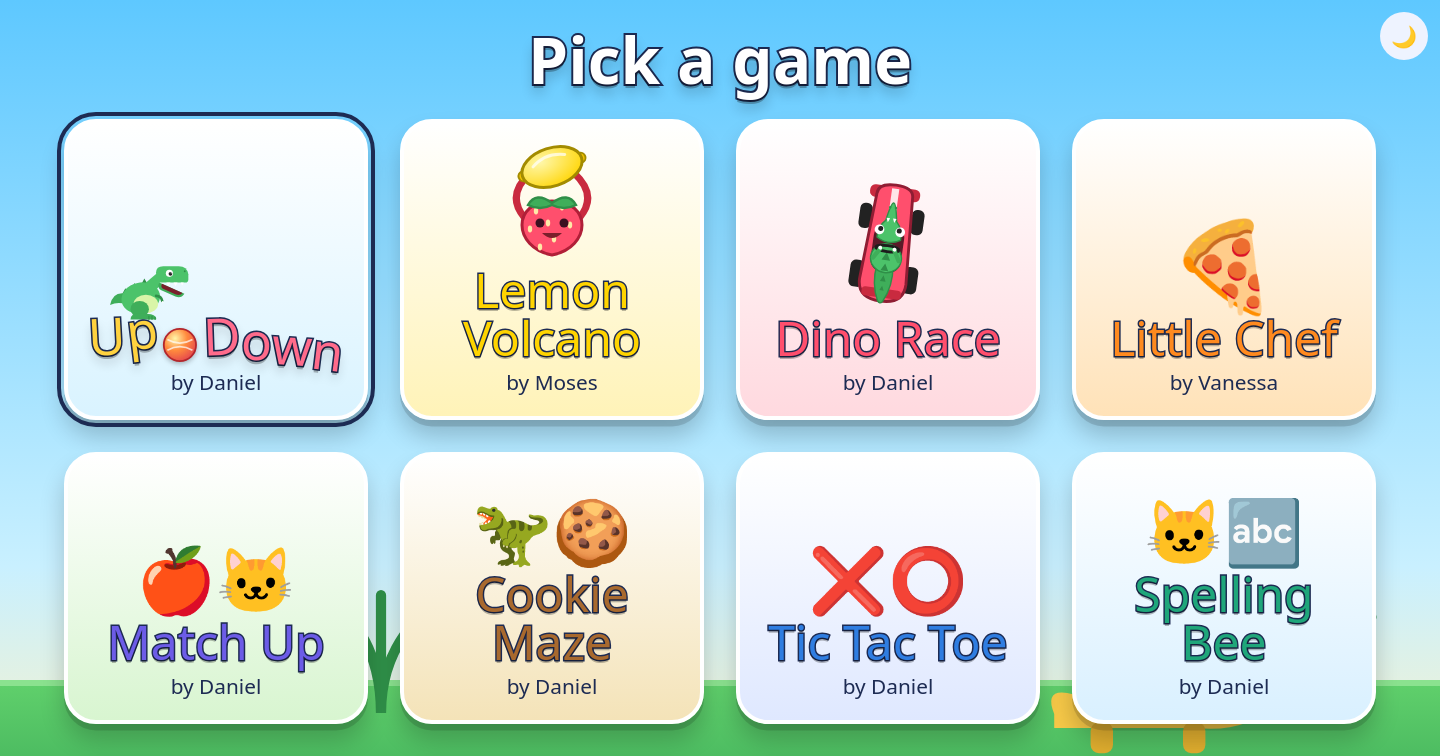
Test case: dino-race, from the picker › opens with one tap on its card
This screenshot has width=1440, height=756.
Click the button with aria-label "Play Dino Race" at (888, 270), box x1=736 y1=119 x2=1040 y2=420
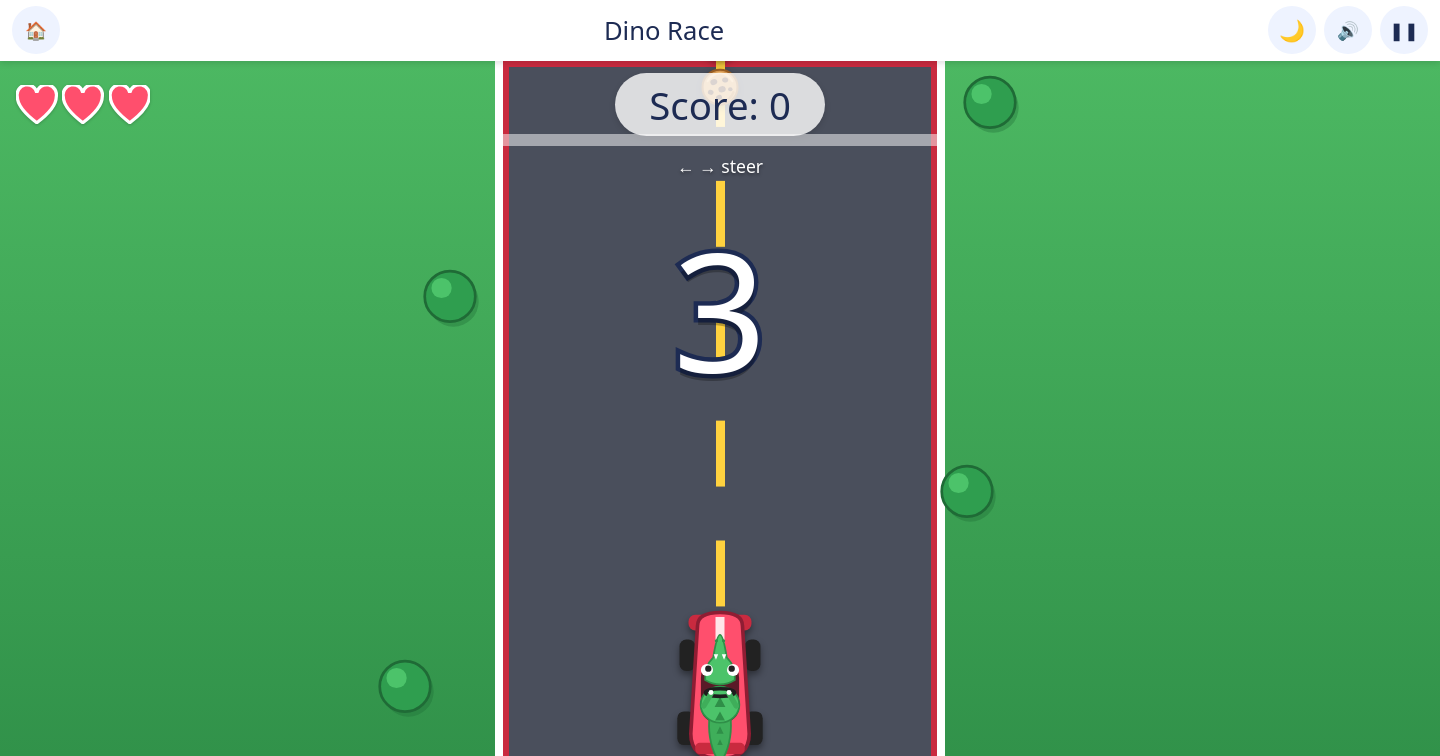
Expected: the heading "Pick a game" is gone
Expected: the progress indicator named "Race progress" is shown, x1=496 y1=134 x2=944 y2=146
